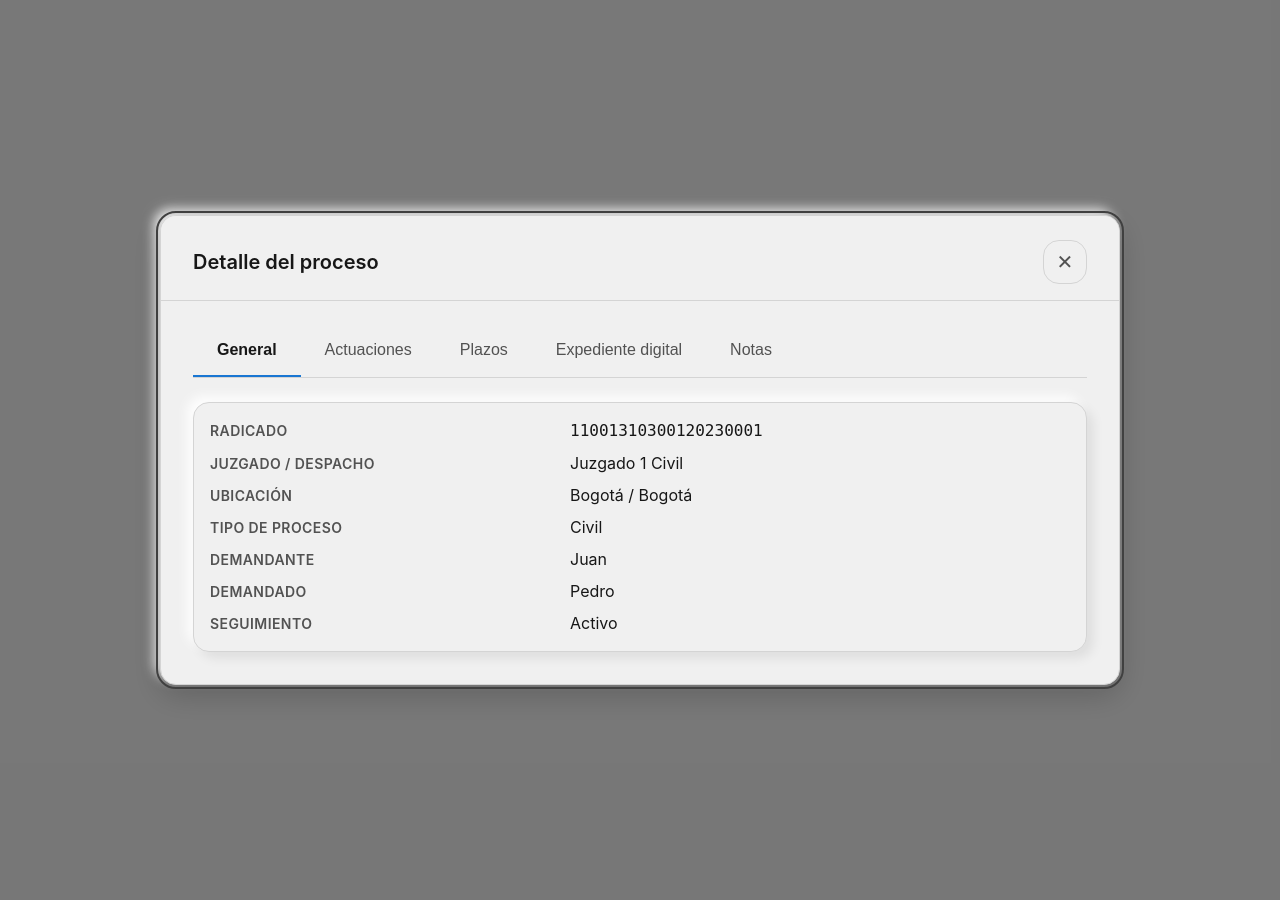
Test: ModalDetalle › no muestra el botón de traer documentos de la Rama Judicial en Expediente digital (es manual)
Expected: the element showing "General Actuaciones Plazos Expediente digital Notas" is shown, [193, 325, 1087, 378]
Click the tab "Expediente digital": {"x": 619, "y": 351} [532, 325, 706, 377]
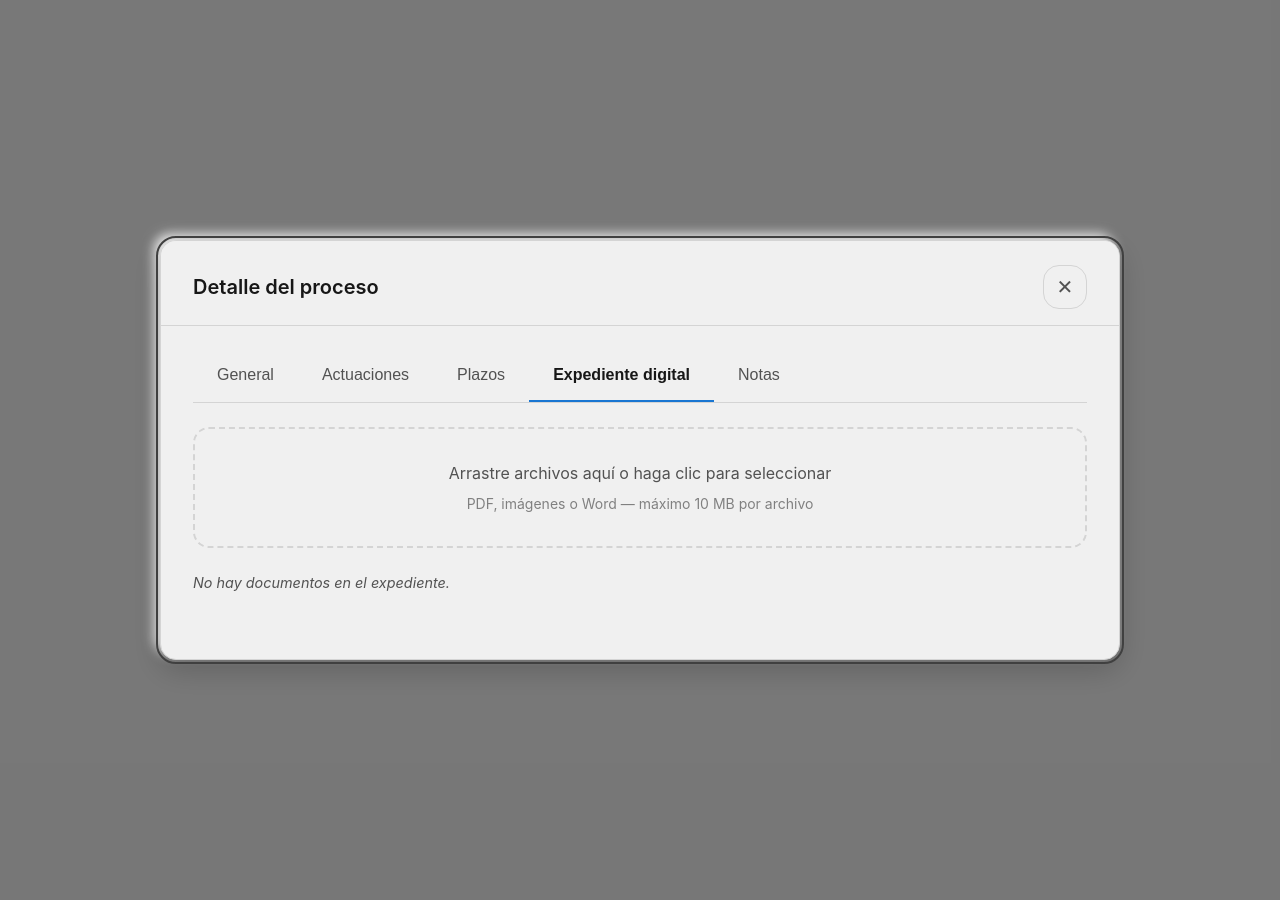
Expected: the text "No hay documentos en el expediente." is shown, [193, 574, 450, 591]
